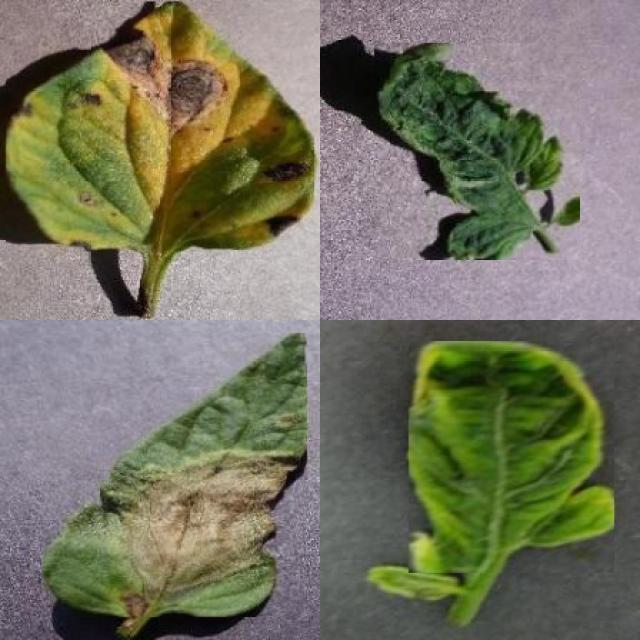Early Blight: (5, 2, 315, 252)
Late Blight: (42, 333, 308, 617)
Mosaic Virus: (374, 44, 580, 260)
Yellow Leaf Curl Virus: (408, 340, 615, 573)
